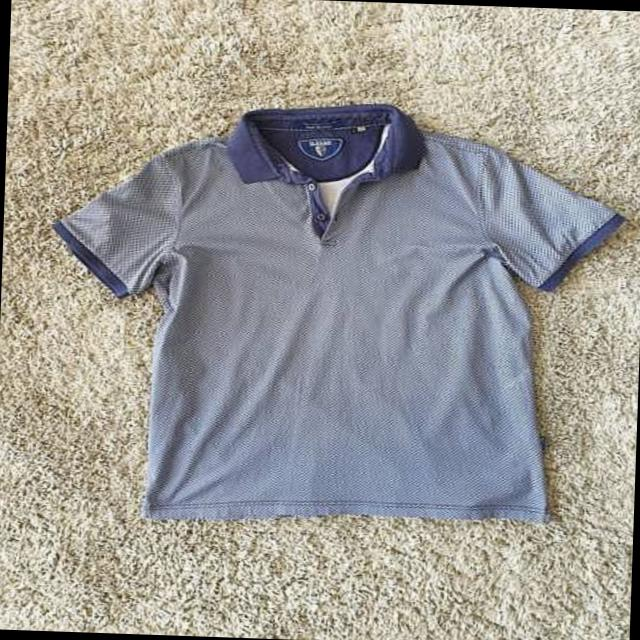T_SHIRT: (23, 79, 640, 532)
